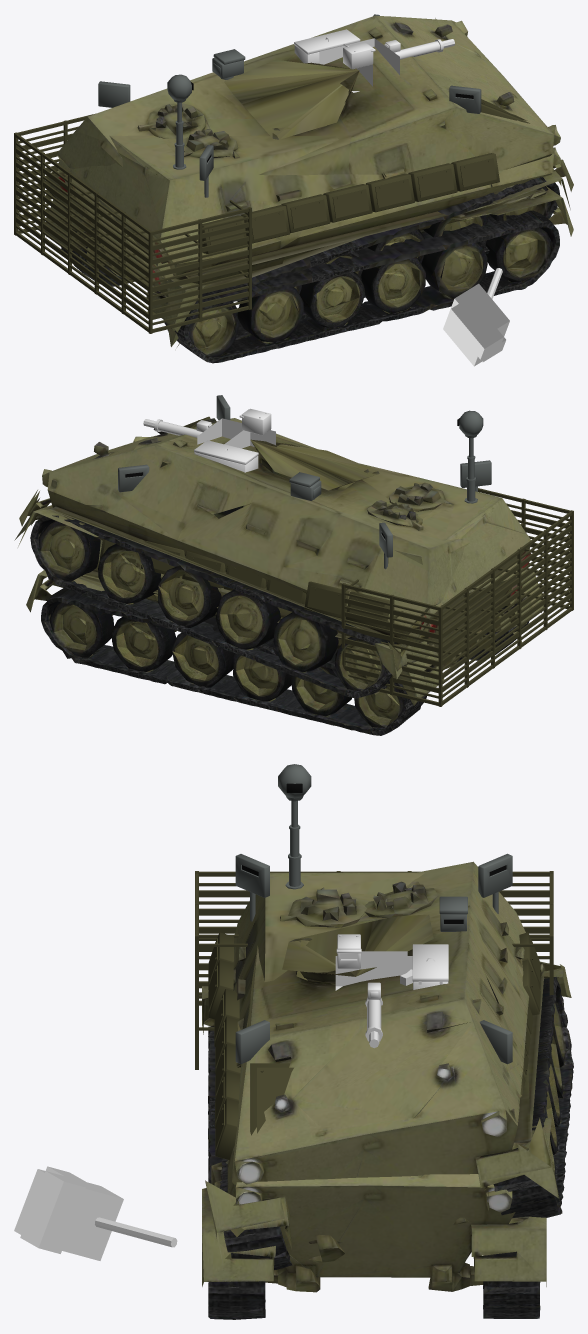
File: ifv_namer.glb
3 views of the same model, one above another, from view 1: azimuth 30°, elevation 25°; view 2: azimuth 150°, elevation 25°; view 3: azimuth 270°, elevation 25° (orthographic). The views are drawn at different scales.
Visible parts, largest first — view 1: WRECK_hull_hull, hull_hull, hull_rubber, kit_armour_3_hull_hull_far, kit_armour_2_hull_hull, kit_armour_3_hull_hull_near, kit_armour_3_hull_hull, WRECK_hull_rubber, kit_sensors_2_hull_hull, WRECK_turret_metal, WRECK_turret_plate, kit_firepower_3_turret_metal (+5 smaller); view 2: WRECK_hull_hull, WRECK_hull_rubber, hull_rubber, hull_hull, kit_armour_3_hull_hull_far, kit_armour_3_hull_hull_near, kit_armour_3_hull_hull, kit_armour_2_hull_hull, kit_sensors_2_hull_hull, kit_firepower_3_turret_metal, kit_sensors_3_hull_hull, turret_metal (+3 smaller); view 3: WRECK_hull_hull, hull_hull, WRECK_hull_rubber, hull_rubber, kit_armour_2_hull_hull, kit_sensors_2_hull_hull, WRECK_turret_metal, WRECK_turret_plate, kit_armour_3_hull_hull, kit_armour_3_hull_hull_far, kit_armour_1_hull_hull, kit_sensors_3_hull_hull (+6 smaller).
Part boxes in pixels (x1,y1,x2,y2): WRECK_hull_hull: (46,15,570,346); hull_hull: (46,108,570,323); hull_rubber: (45,199,573,363); kit_armour_3_hull_hull_far: (16,133,248,319); kit_armour_2_hull_hull: (202,153,499,253); kit_armour_3_hull_hull_near: (16,126,248,325); kit_armour_3_hull_hull: (14,113,251,333); WRECK_hull_rubber: (45,18,573,339); kit_sensors_2_hull_hull: (98,14,481,197); WRECK_turret_metal: (443,268,509,366); WRECK_turret_plate: (447,297,505,362); kit_firepower_3_turret_metal: (294,29,360,63); WRECK_hull_hull: (14,418,525,679); WRECK_hull_rubber: (19,490,526,698); hull_rubber: (26,575,543,735); hull_hull: (31,463,541,690); kit_armour_3_hull_hull_far: (344,510,571,693); kit_armour_3_hull_hull_near: (344,503,571,698); kit_armour_3_hull_hull: (341,488,573,706); kit_armour_2_hull_hull: (100,539,389,628); kit_sensors_2_hull_hull: (118,395,491,569); kit_firepower_3_turret_metal: (194,440,258,472); kit_sensors_3_hull_hull: (457,410,483,503); turret_metal: (143,418,275,446); WRECK_hull_hull: (214,861,571,1268); hull_hull: (202,872,546,1292); WRECK_hull_rubber: (205,961,573,1269); hull_rubber: (202,1005,546,1319); kit_armour_2_hull_hull: (208,932,540,1159); kit_sensors_2_hull_hull: (235,853,512,1064); WRECK_turret_metal: (14,1169,177,1260); WRECK_turret_plate: (20,1166,85,1253); kit_armour_3_hull_hull: (195,871,553,1069); kit_armour_3_hull_hull_far: (199,890,549,988); kit_armour_1_hull_hull: (250,1063,293,1135); kit_sensors_3_hull_hull: (278,764,311,889).
Bounding box in the file's own units: 7.91 × 4.64 × 6.69.
Materials: 1 (1 with a texture image).
